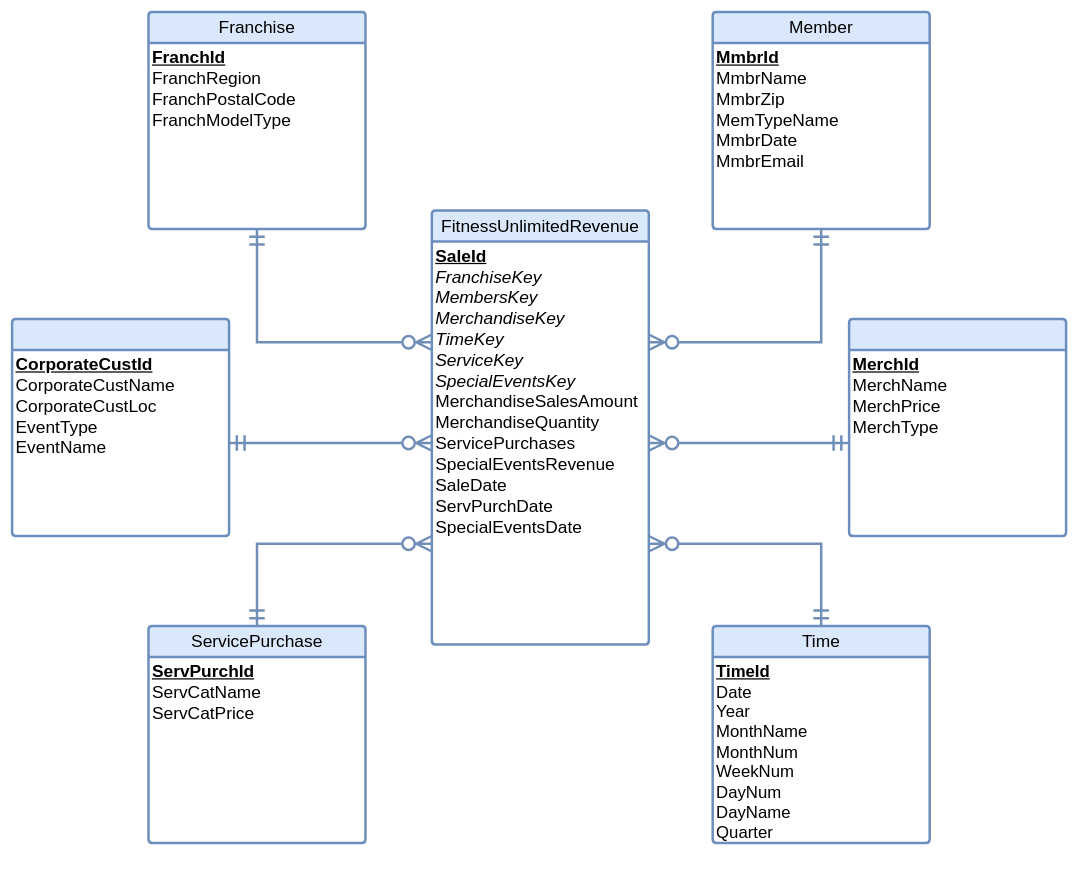
This 1078x873 diagram has some shape labels left out. Here are the shapes that lost their labels. From the top down, the box of each, then its label:
(11, 317, 230, 537): SpecialEvents
(848, 317, 1067, 537): Merchandise
